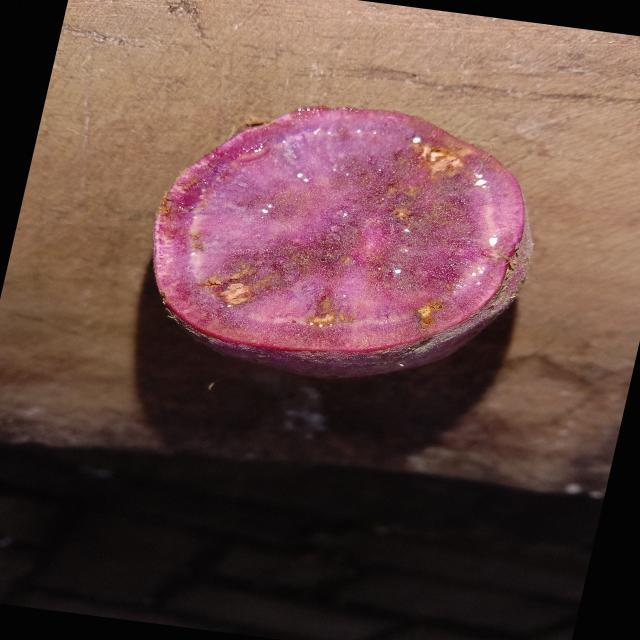Sick Sweet Potato_Tuber Rot: (153, 108, 532, 378)
